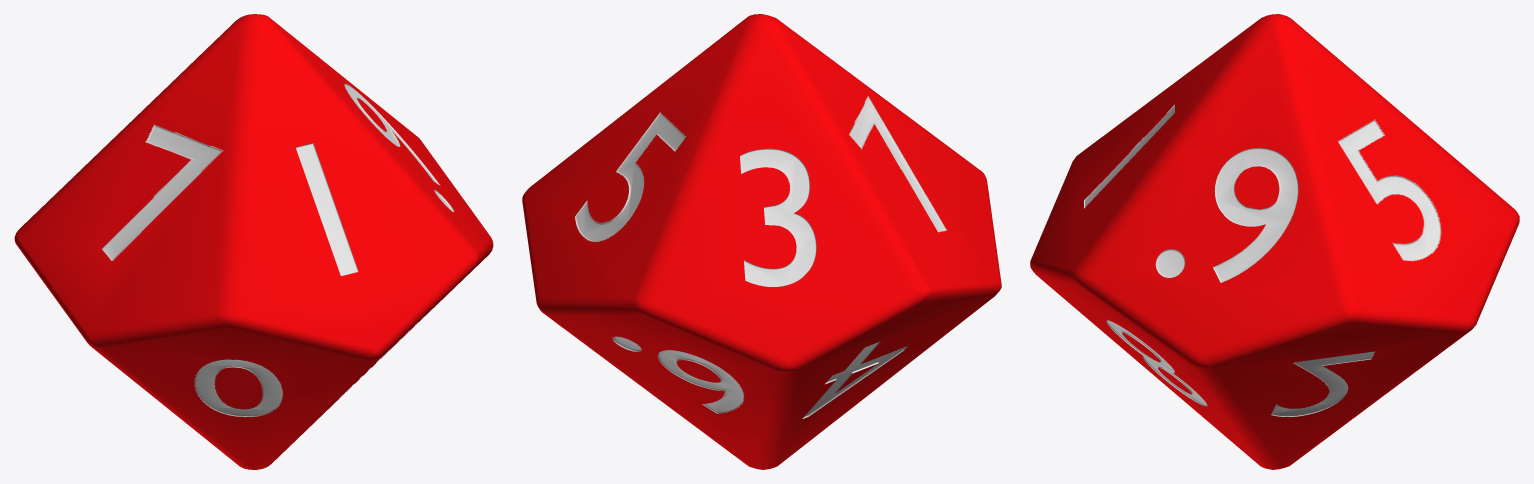
3 views of the same model, side by side, from view 1: azimuth 30°, elevation 25°; view 2: azimuth 150°, elevation 25°; view 3: azimuth 270°, elevation 25° (orthographic).
Visible parts, largest first — view 1: d10; view 2: d10; view 3: d10.
Part boxes in pixels (x1,y1,x2,y2): d10: (14,14,493,469); d10: (522,14,1001,469); d10: (1030,14,1519,469).
Size of the model in its own units: 1.42 by 1.52 by 1.48.
Materials: 1 (1 with a texture image).
